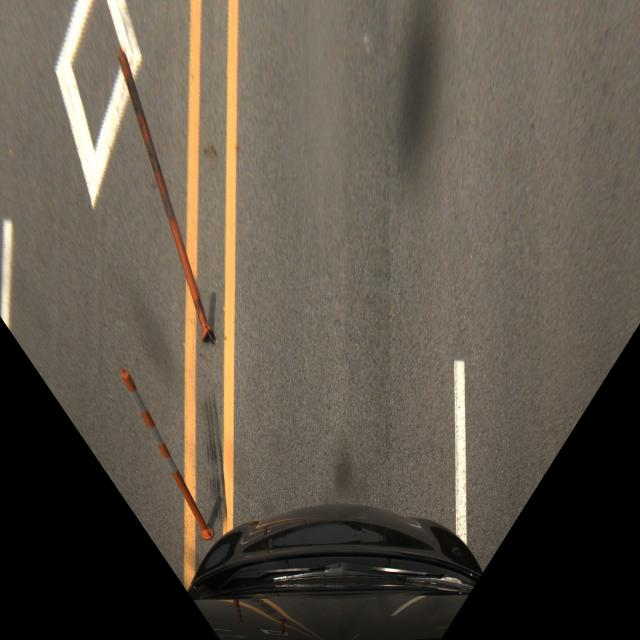diamond: (449, 419, 640, 640)
